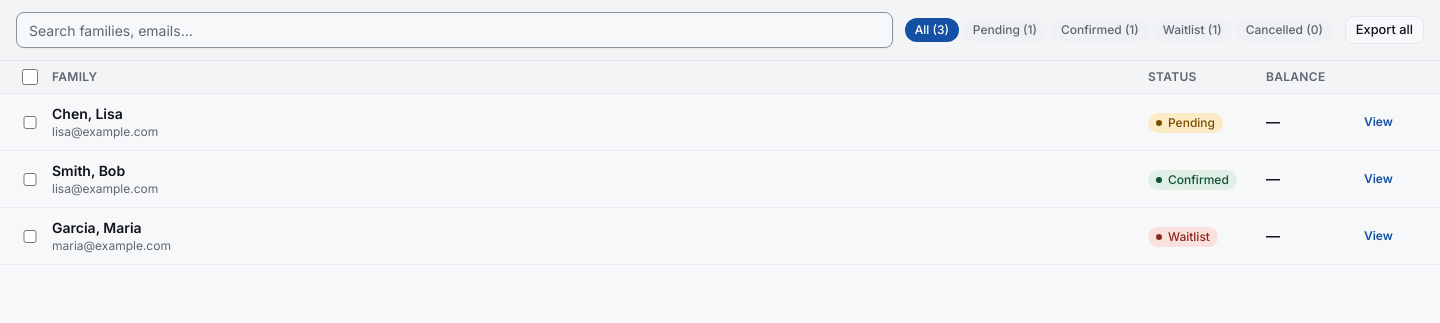
Test case: FamiliesTable › toggles row selection when checkbox is clicked
Click the checkbox next to "Chen": coordinates (30, 122) [16,116,44,128]
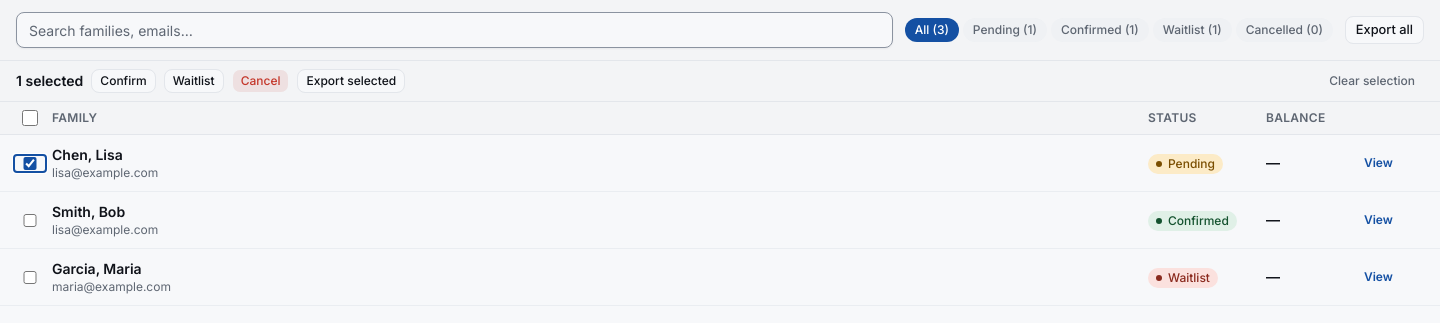
Check: the text "1 selected" is shown, box [16,71,83,91]
